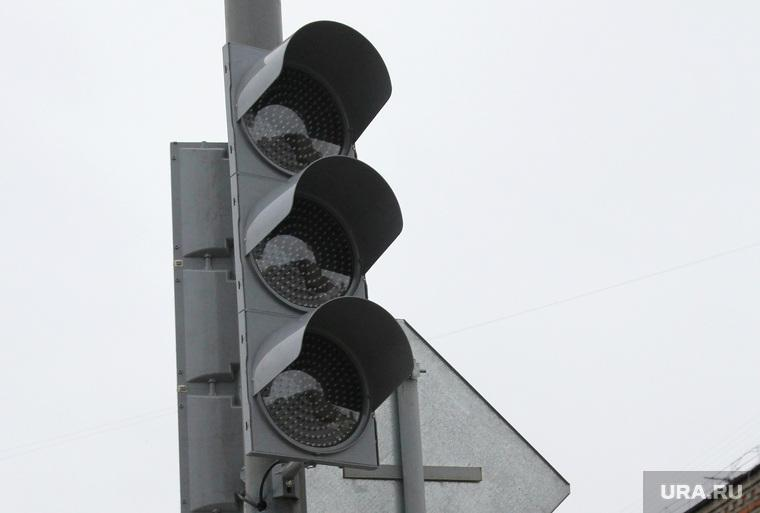off traffic light: (224, 22, 412, 454)
